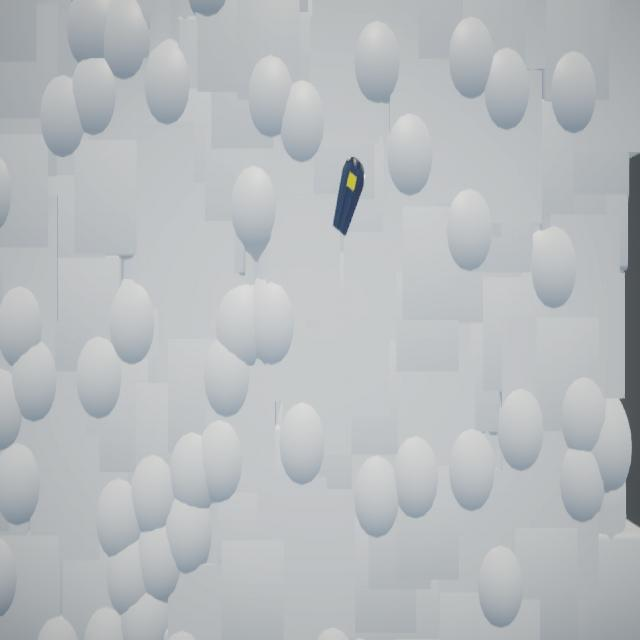handle_folk: (334, 157, 366, 238)
